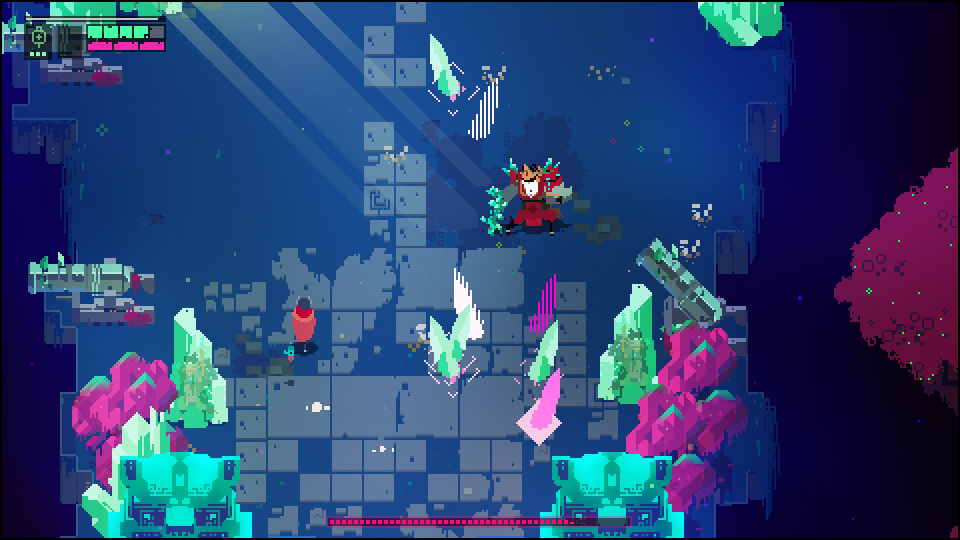hanged_crys: (421, 28, 477, 114), (458, 74, 504, 152), (520, 368, 565, 440), (425, 315, 461, 398), (520, 319, 562, 388), (450, 268, 487, 343), (520, 271, 560, 336)
hanged_man: (479, 157, 574, 240)
player: (288, 293, 320, 356)
